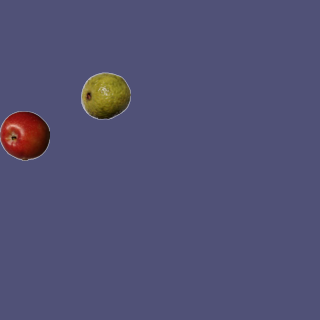Apple Braeburn: (0, 110, 49, 160)
Guava: (80, 70, 130, 120)
